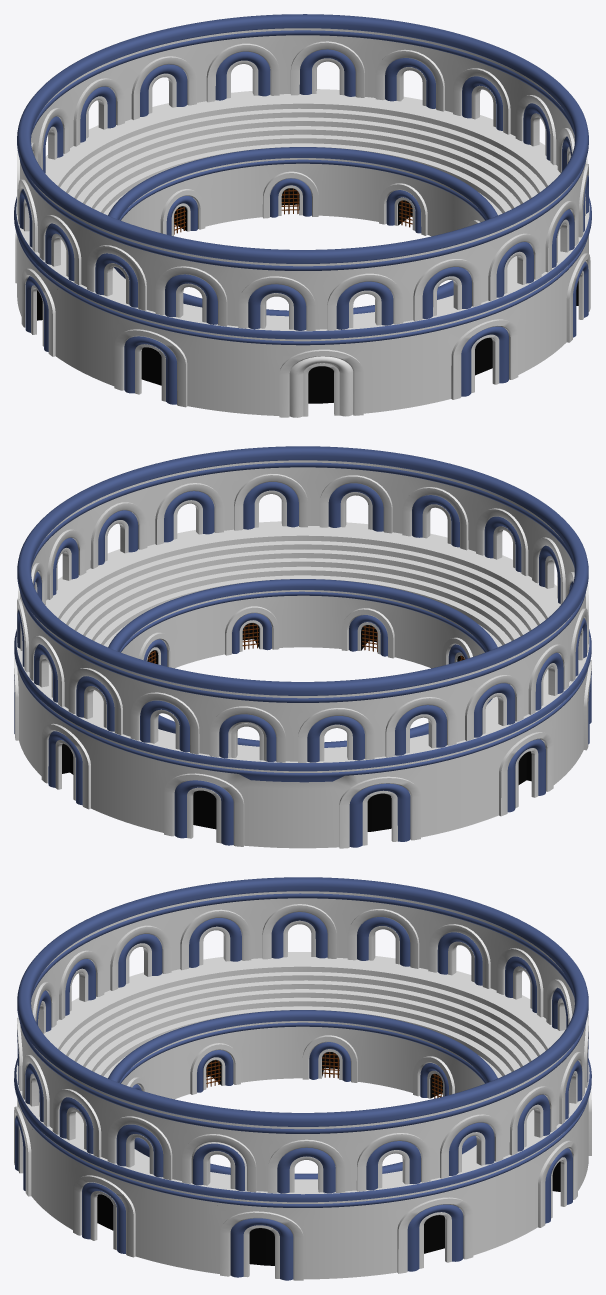
Rendered from arena.fbx.
3 views of the same model, one above another, from view 1: azimuth 30°, elevation 25°; view 2: azimuth 150°, elevation 25°; view 3: azimuth 270°, elevation 25° (orthographic).
Visible parts, largest first — view 1: arena, stairs; view 2: arena, stairs; view 3: arena, stairs.
Part boxes in pixels (bbox=[...]): arena: bbox=[14, 14, 591, 417]; stairs: bbox=[60, 108, 545, 285]; arena: bbox=[14, 446, 591, 848]; stairs: bbox=[60, 541, 545, 714]; arena: bbox=[14, 877, 591, 1280]; stairs: bbox=[60, 972, 545, 1156].
Bounding box in the file's own units: 6870 × 2134 × 6868.
